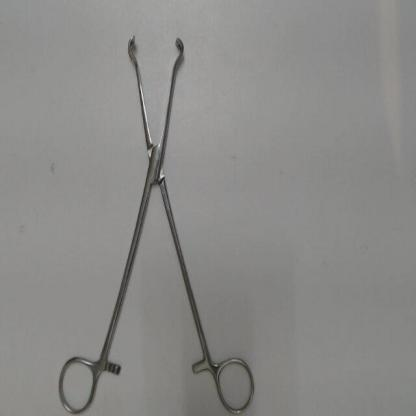8 Babcock Tissue Forceps: (52, 33, 260, 415)
